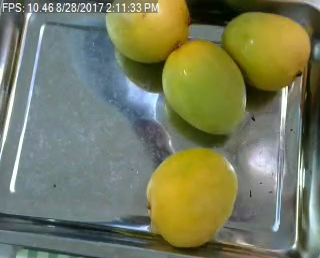Mango: (145, 148, 238, 246), (163, 38, 245, 133), (224, 12, 311, 89), (105, 1, 194, 60)
